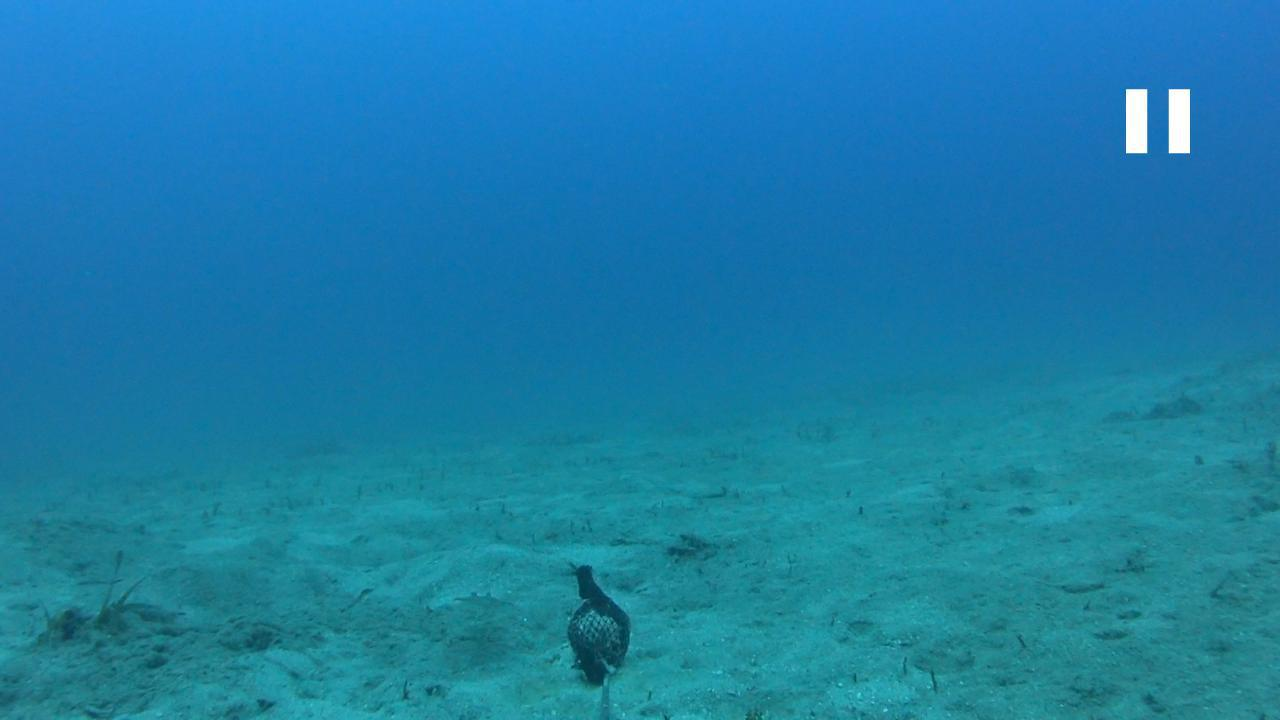bothus: (446, 586, 517, 618)
